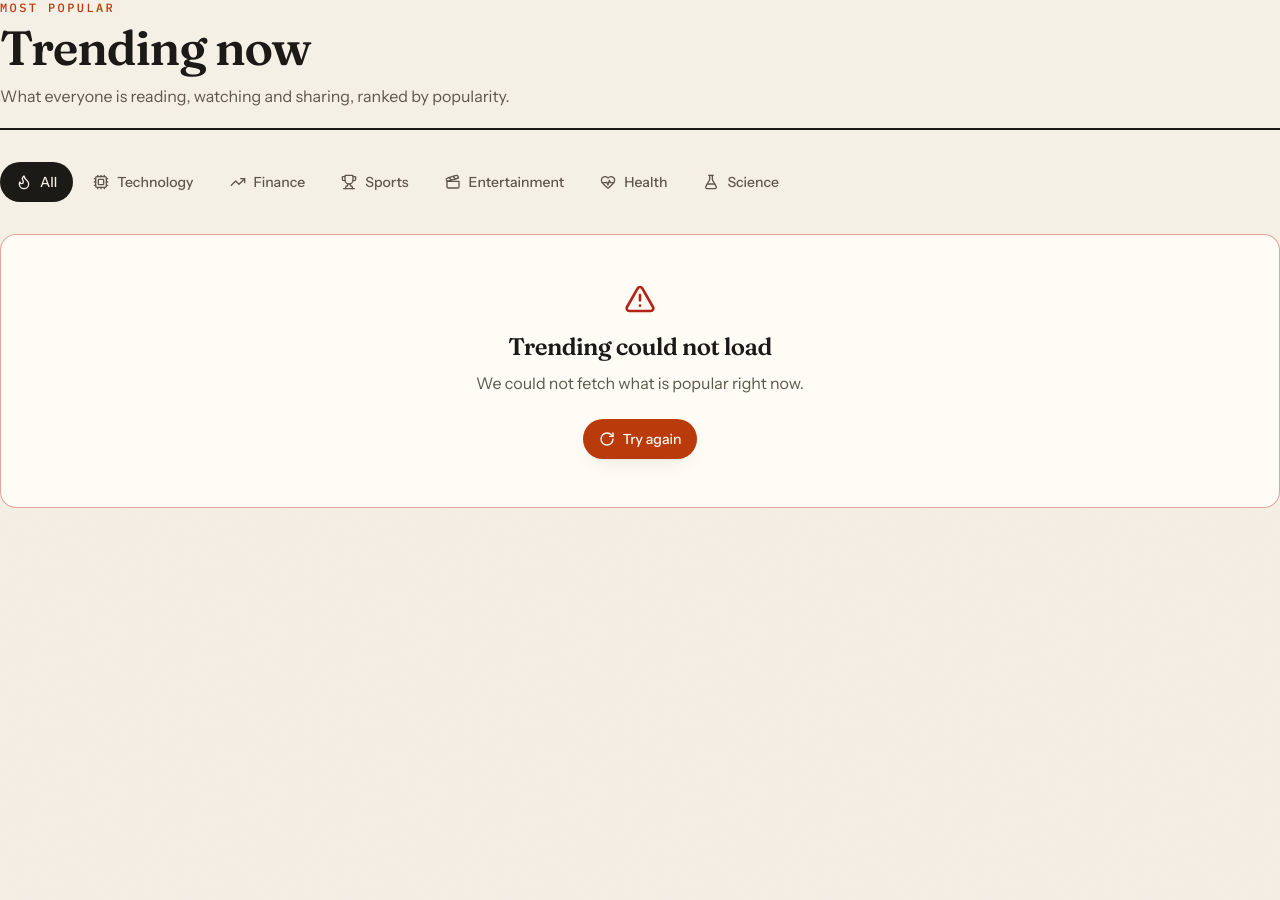
Test: TrendingView (integration) › recovers from an error with retry
Expected: the heading "Trending could not load" is shown, x1=508 y1=331 x2=772 y2=363
Click the button "Try again" at [640, 439], box x1=582 y1=419 x2=697 y2=459
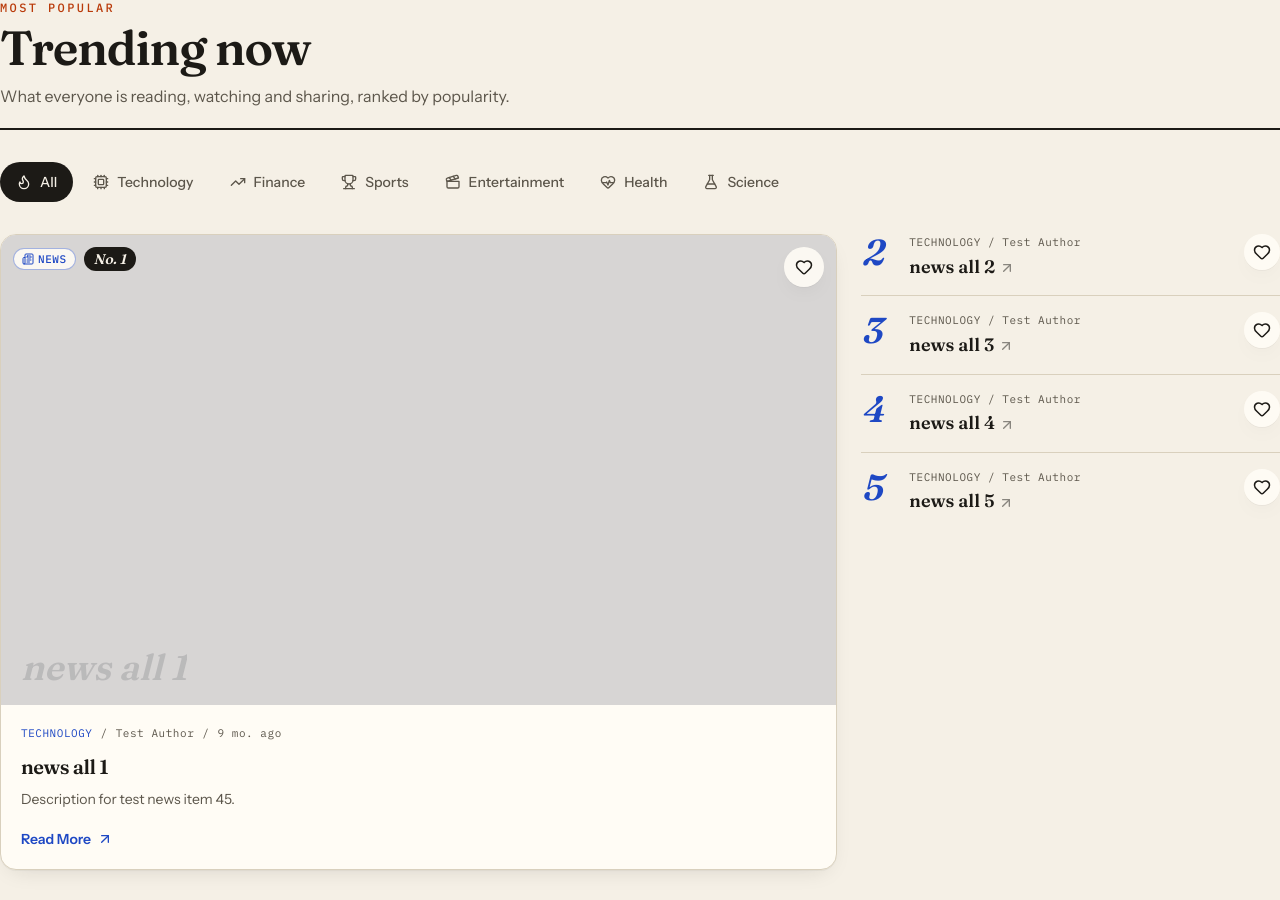
Now the text "No. 1" is shown, box x1=84 y1=247 x2=136 y2=271
